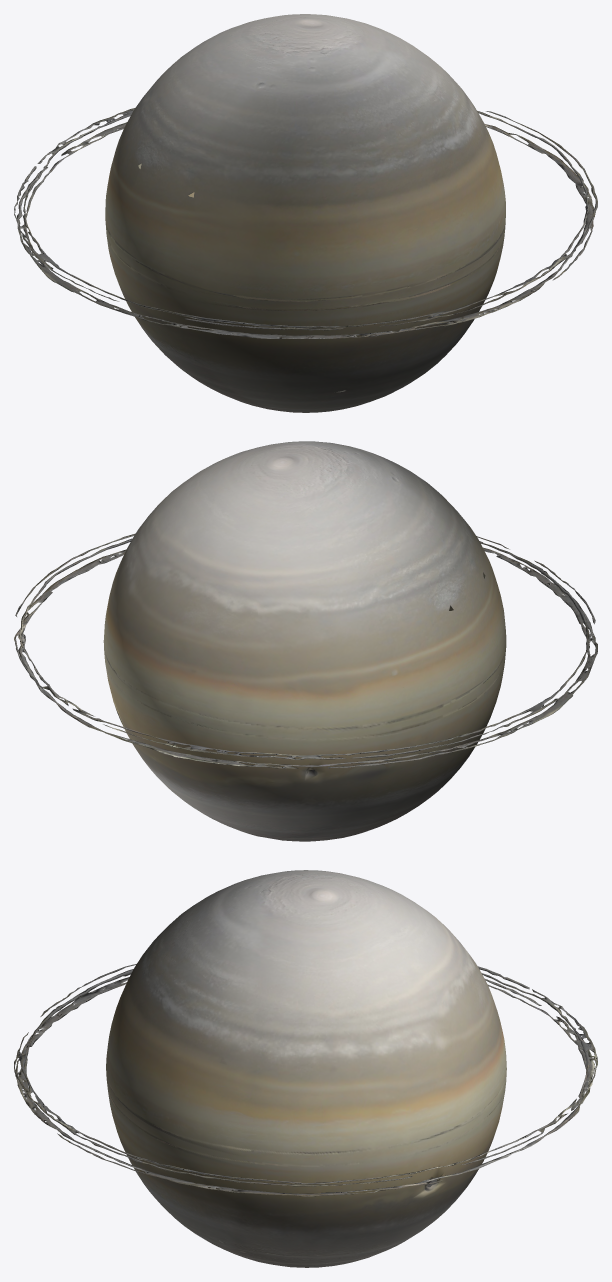
File: planet_saturn.glb
3 views of the same model, one above another, from view 1: azimuth 30°, elevation 25°; view 2: azimuth 150°, elevation 25°; view 3: azimuth 270°, elevation 25° (orthographic).
Size of the model in its own units: 1.73 by 1.19 by 1.73.
Materials: 1 (1 with a texture image).
